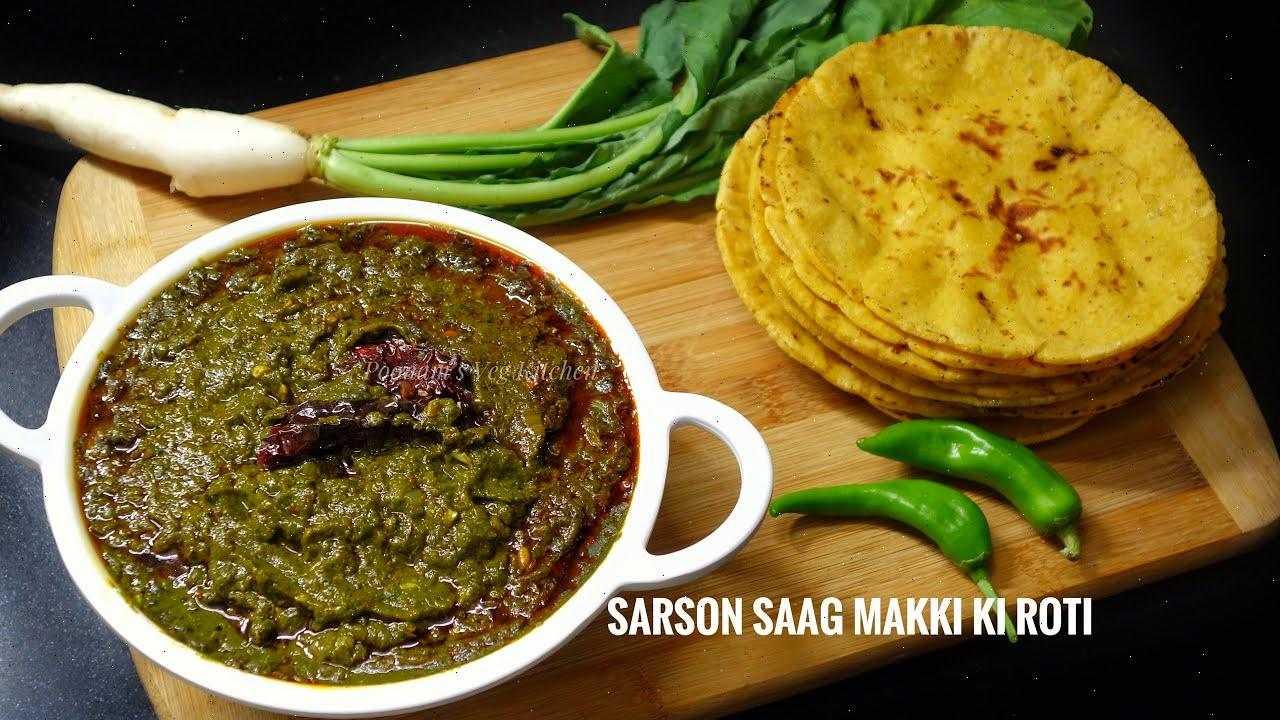saag: (126, 252, 597, 675)
